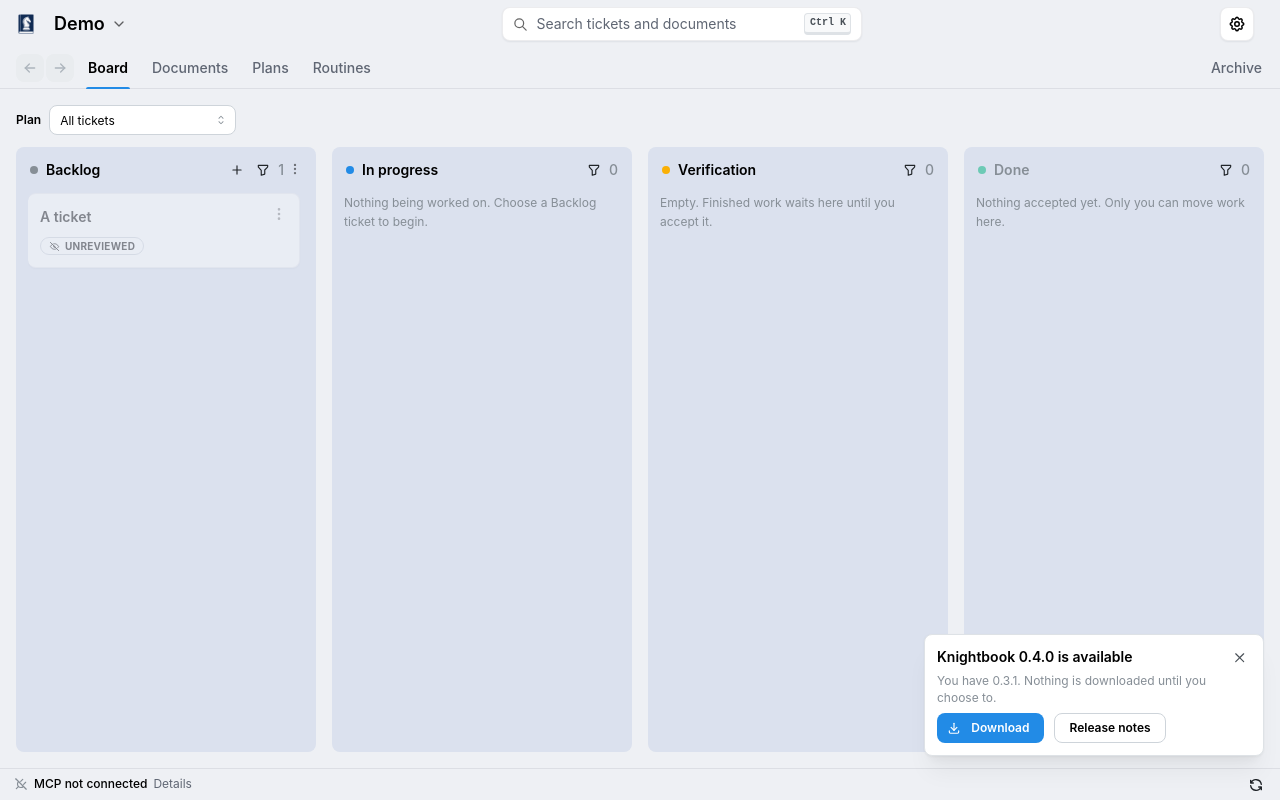
Test case: the update notice › goes away on Later until something changes
Click the button named "Later" at point(1240, 658), box x1=1229 y1=647 x2=1251 y2=669
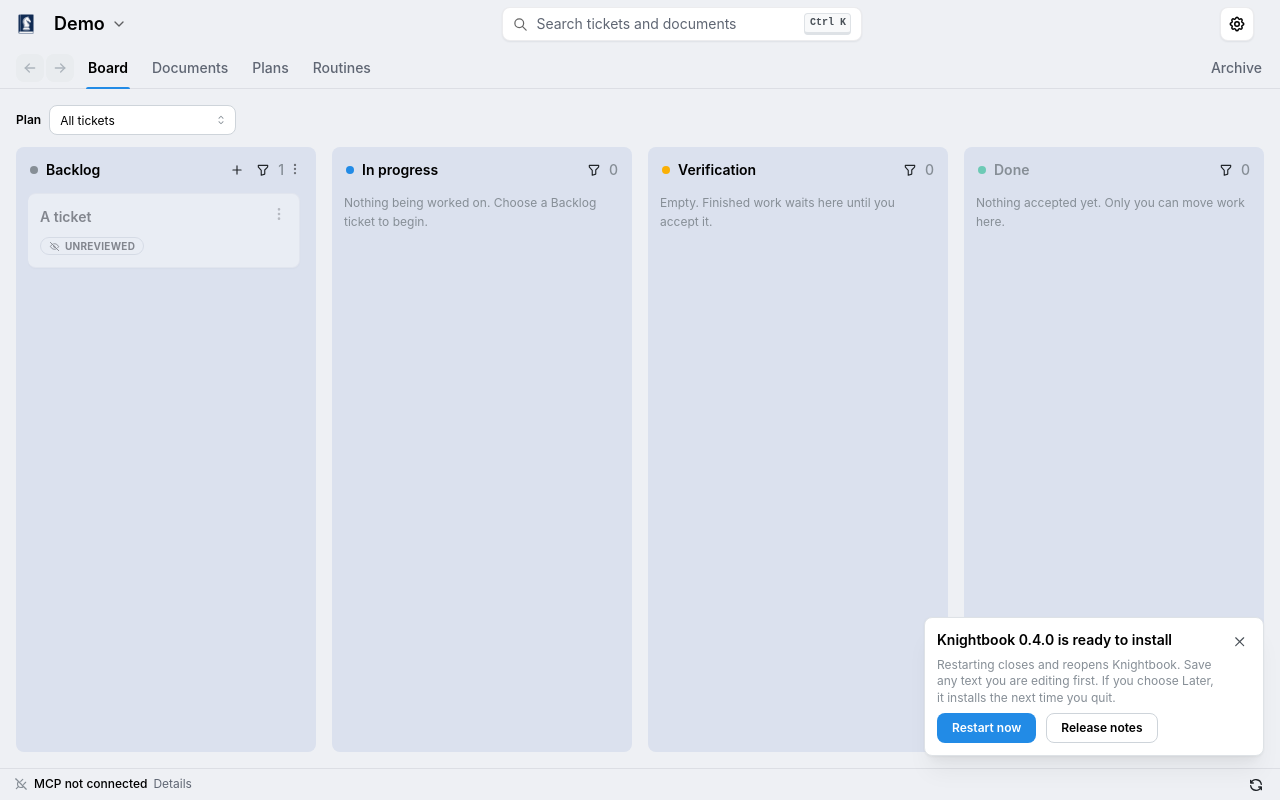
Expected: the element named "Update" shows "ready to install", x1=1054 y1=631 x2=1172 y2=648
